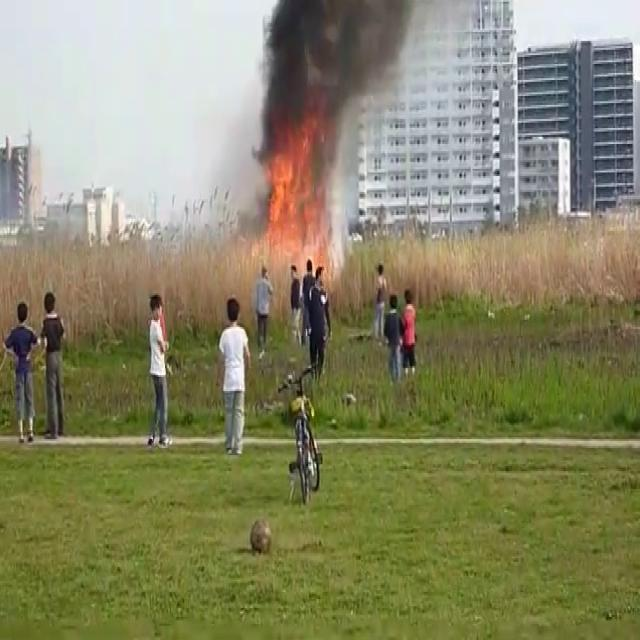Fire: (249, 136, 335, 271)
Smoke: (249, 1, 411, 195)
